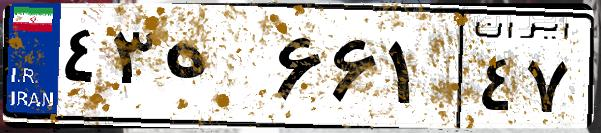1: (385, 28, 445, 110)
3: (110, 28, 158, 98)
4: (57, 26, 110, 100), (475, 38, 525, 113)
6: (270, 28, 330, 110), (330, 28, 385, 110)
7: (525, 38, 570, 115)
ه: (158, 20, 270, 120)
